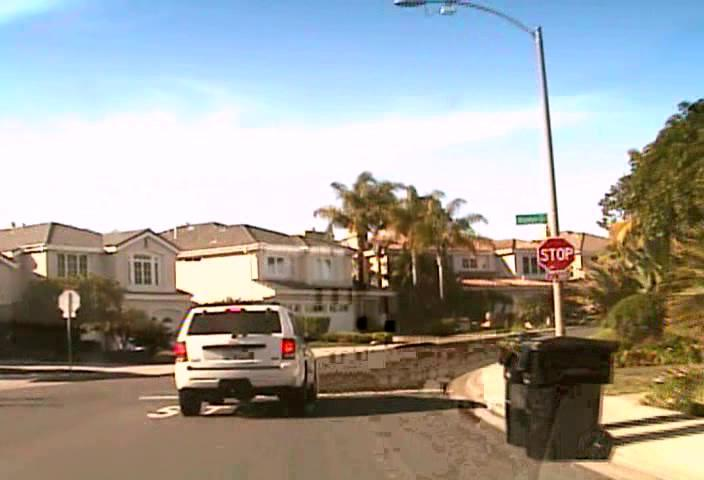stop: (538, 237, 576, 273)
